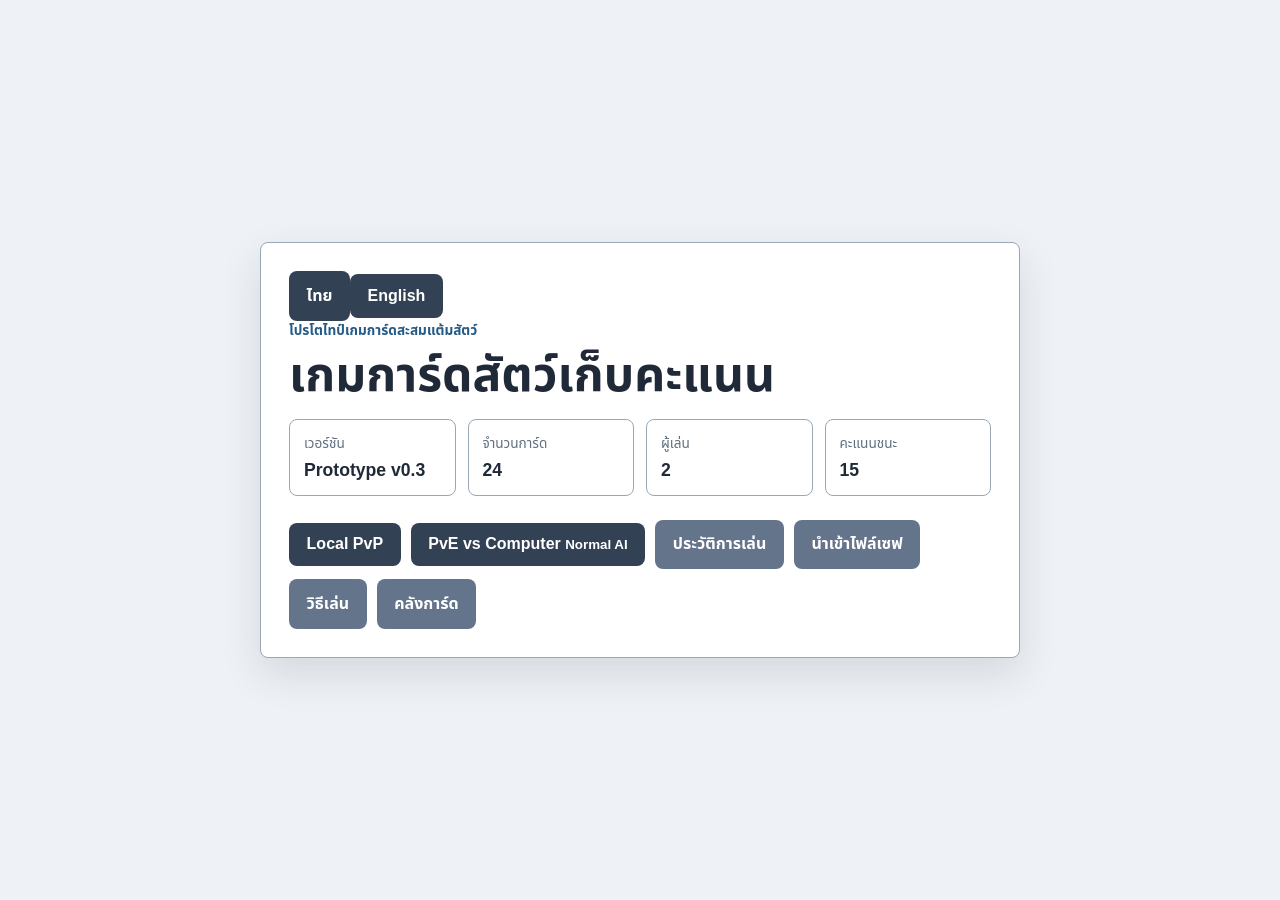
Scenario: App Phase 4 UI › shows both PvE scores, active player, and playability reasons
Step 1. Click the button "PvE vs Computer Normal AI" → (528, 544), box [411,523,645,566]
(page scrolled)
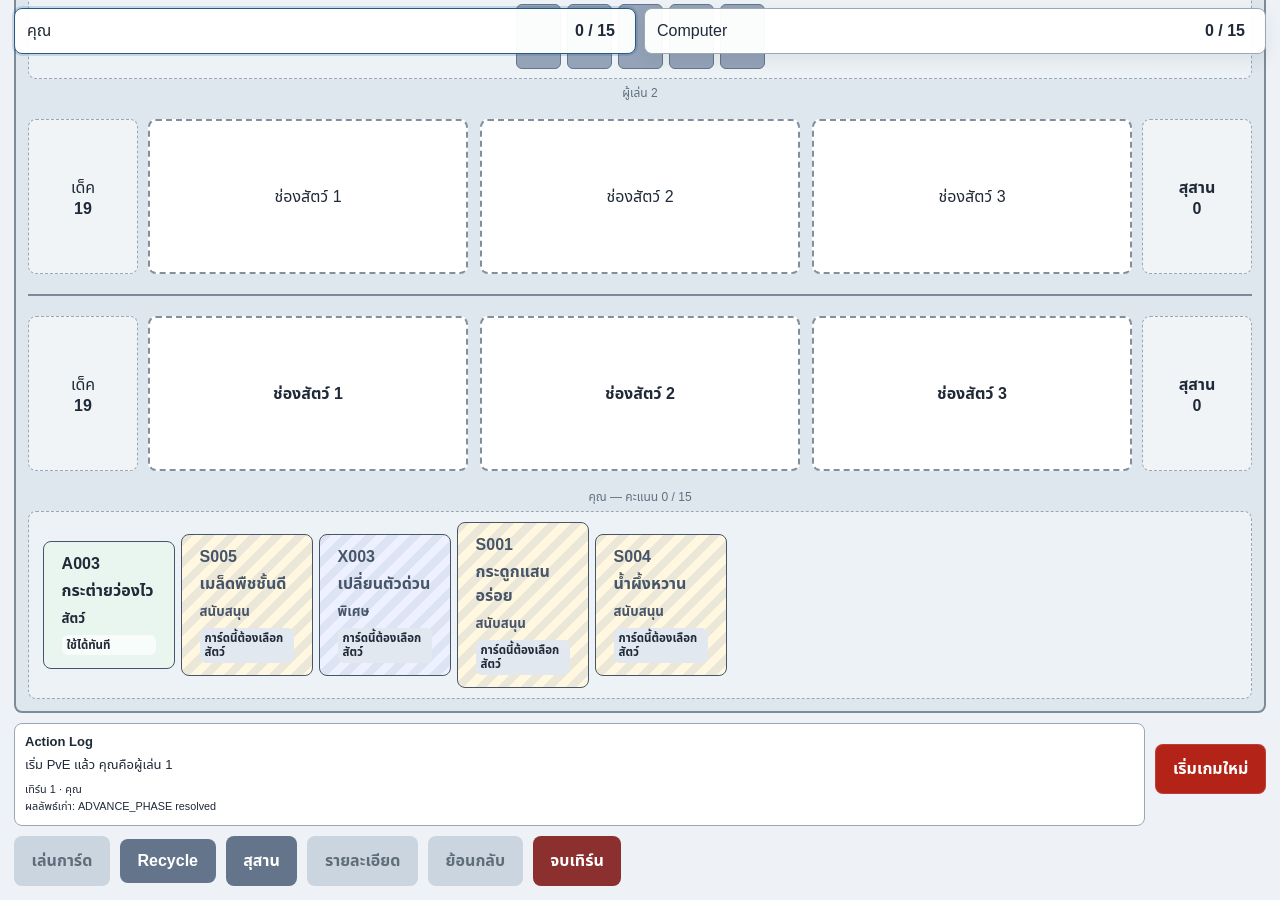
Expected: the text "คุณ" is shown, [27,22,51,39]
Expected: the element showing "คุณ 0 / 15" is shown, [14,8,636,54]
Expected: the text "ใช้ได้ทันที" is shown, [62,635,156,655]
